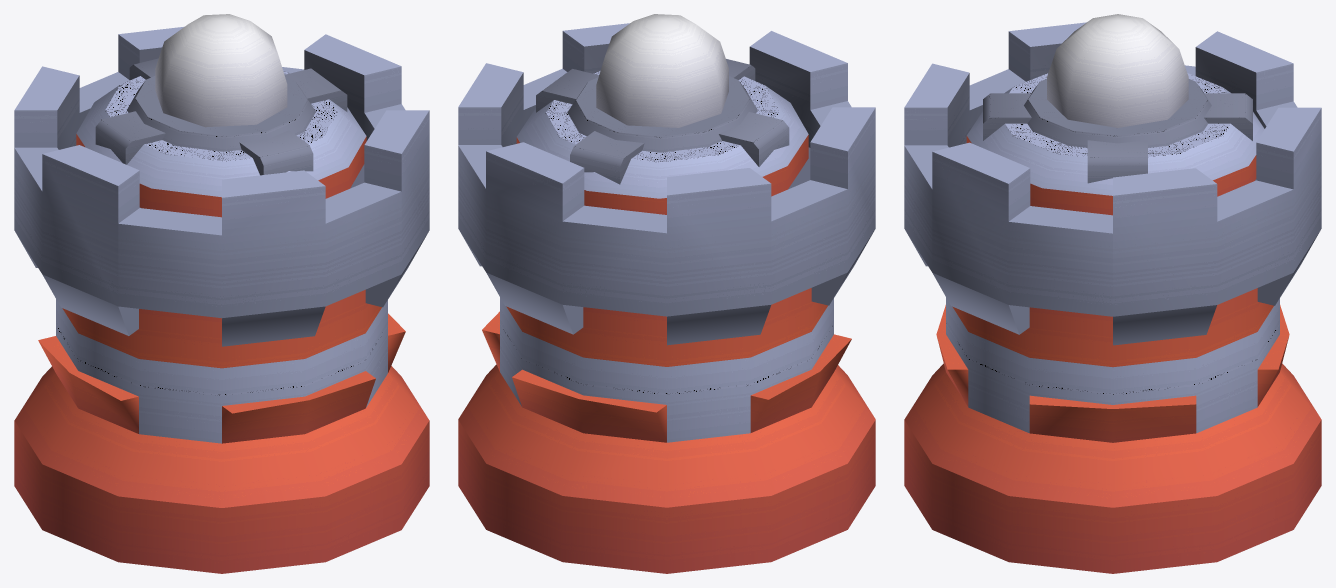
File: torre_relentizado.glb
3 renders of one model, left to right at view 1: azimuth 30°, elevation 25°; view 2: azimuth 150°, elevation 25°; view 3: azimuth 270°, elevation 25°, orthographic.
Visible parts, largest first — view 1: tower-round-build-c, enemy-ufo-a; view 2: tower-round-build-c, enemy-ufo-a; view 3: tower-round-build-c, enemy-ufo-a.
Boxes of the visible parts, box(x1,y1,x2,y2) form: tower-round-build-c: box(14, 26, 429, 573); enemy-ufo-a: box(76, 14, 366, 217); tower-round-build-c: box(458, 23, 875, 573); enemy-ufo-a: box(516, 14, 808, 214); tower-round-build-c: box(904, 22, 1321, 573); enemy-ufo-a: box(966, 14, 1264, 215).
Bounding box in the file's own units: 1 × 1.23 × 1.
Materials: 2 (2 with a texture image).
